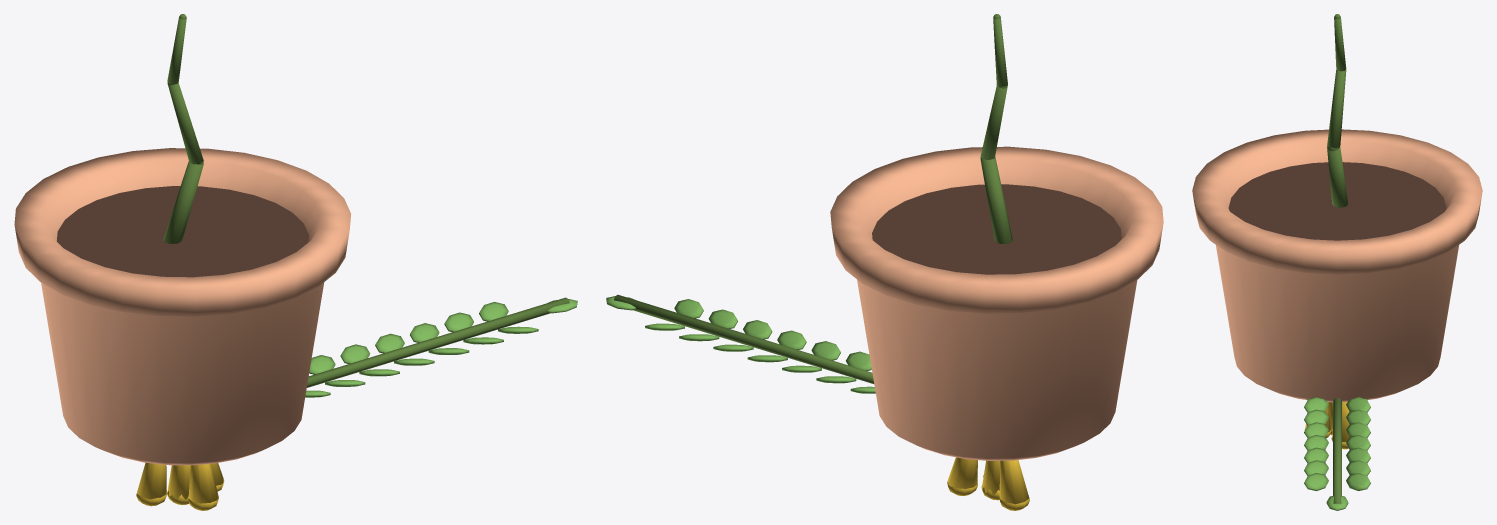
The model's file is kowhai.glb.
3 views of the same model, side by side, from view 1: azimuth 30°, elevation 25°; view 2: azimuth 150°, elevation 25°; view 3: azimuth 270°, elevation 25° (orthographic). The views are drawn at different scales.
Visible parts, largest first — view 1: pot, soil, leaf, flower, stem; view 2: pot, soil, leaf, stem, flower; view 3: pot, soil, leaf, stem, flower.
Part boxes in pixels (x1,y1,x2,y2): pot: (14,148,351,465); soil: (56,186,308,277); leaf: (305,297,577,397); flower: (136,462,224,510); stem: (163,14,203,243); pot: (830,146,1163,460); soil: (872,184,1121,274); leaf: (606,294,875,393); stem: (980,14,1012,243); flower: (947,457,1029,510); pot: (1192,129,1482,402); soil: (1228,162,1446,240); leaf: (1304,397,1370,510); stem: (1327,14,1348,207); flower: (1304,402,1349,449).
Bounding box in the file's own units: 1.41 × 1.21 × 0.76.
